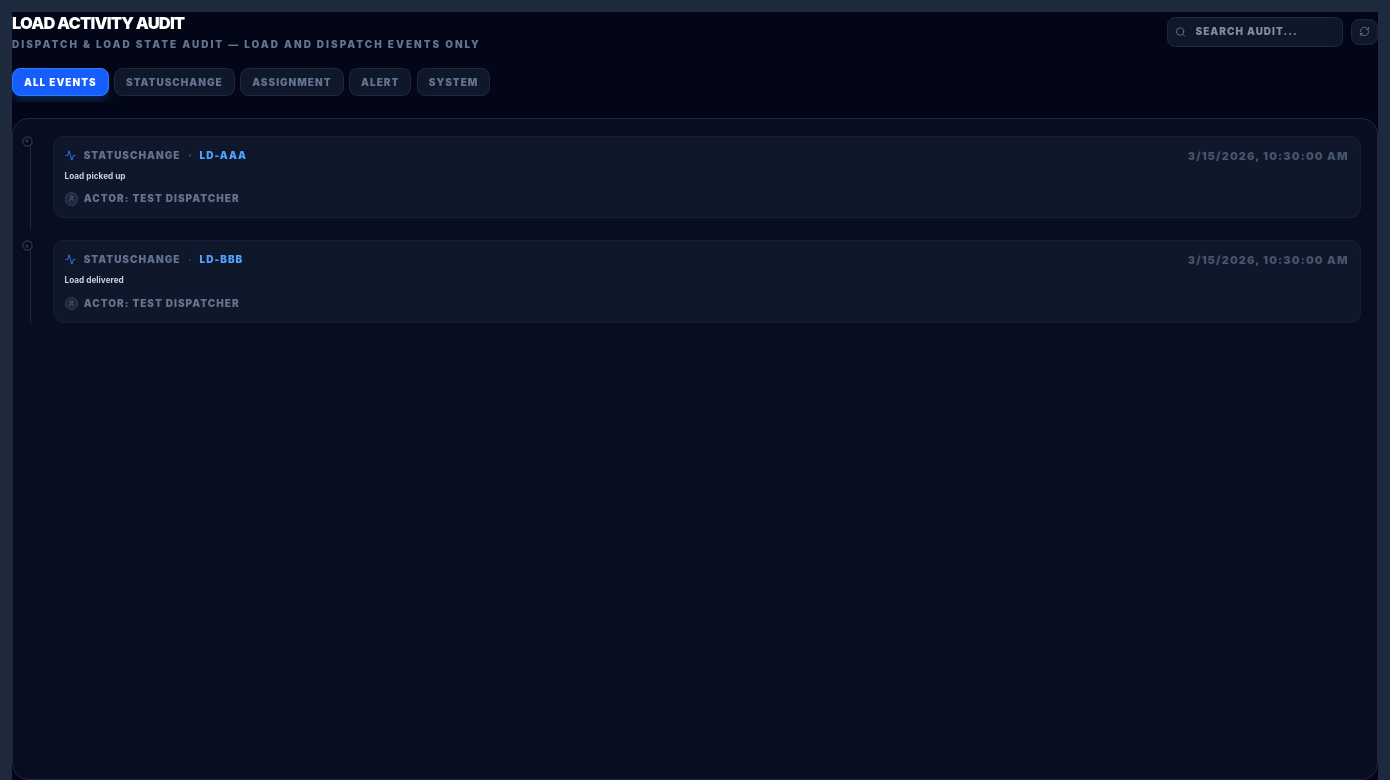
Test case: AuditLogs component › filters entries by search term (client-side)
The width and height of the screenshot is (1390, 780).
Expected: the text "Load picked up" is shown, [64,171,126,181]
// Type in search
Step 1. Type "delivered" into the field with placeholder "SEARCH AUDIT..." → (1255, 32), box [1167,16,1343,47]
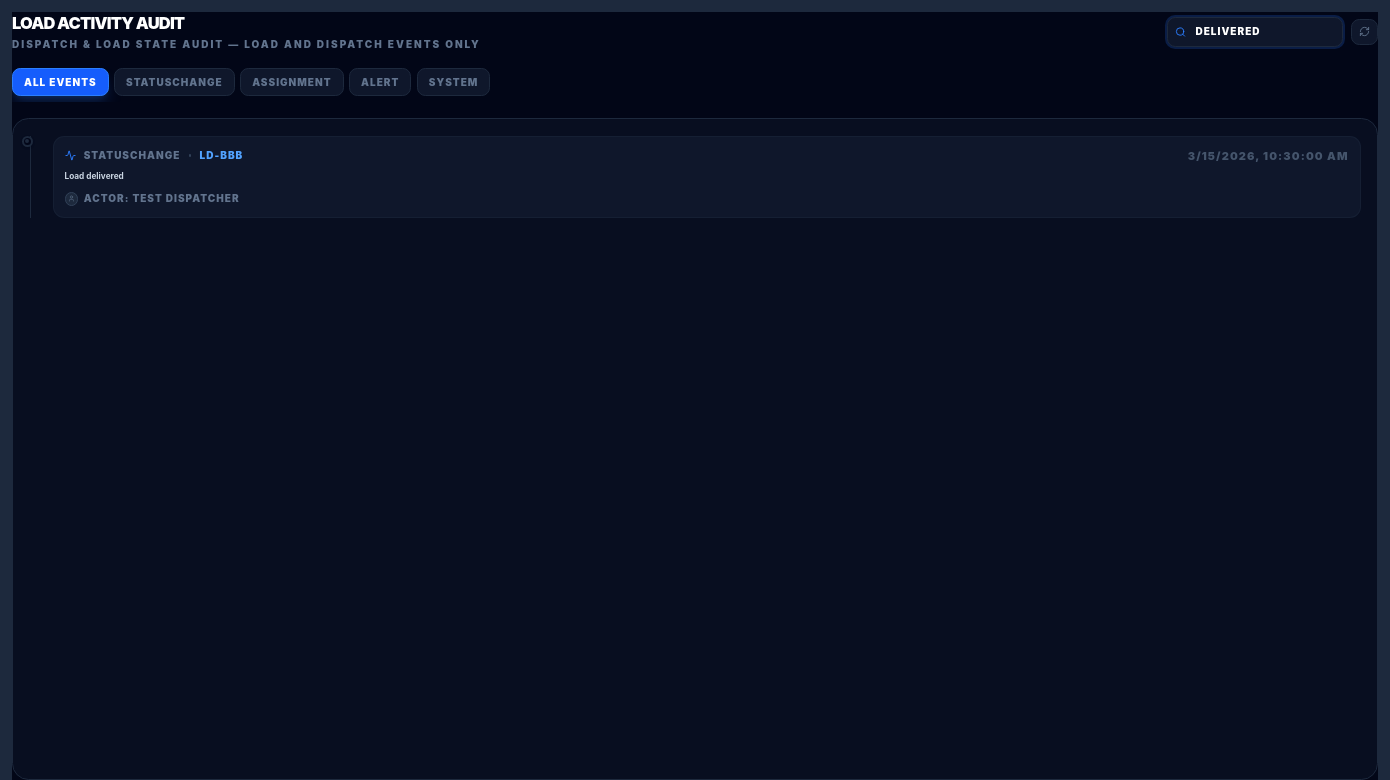
Expected: the text "Load delivered" is shown, [64,171,124,181]
Expected: the text "Load picked up" is gone
